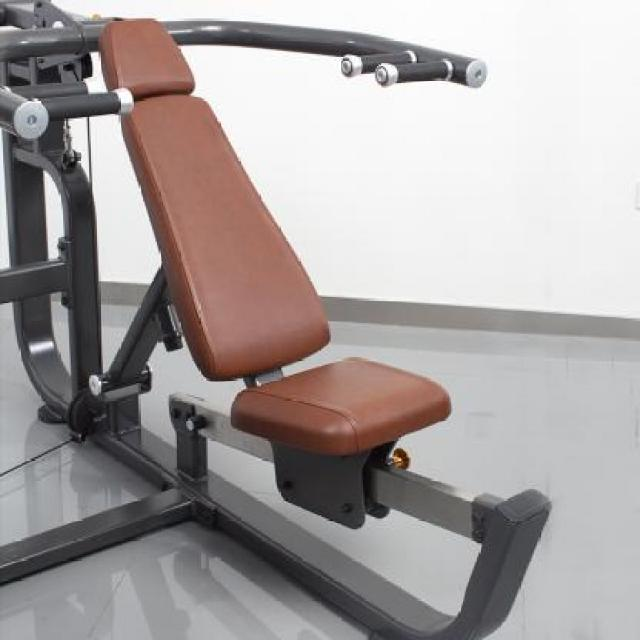shoulder press machine: (0, 0, 552, 640)
